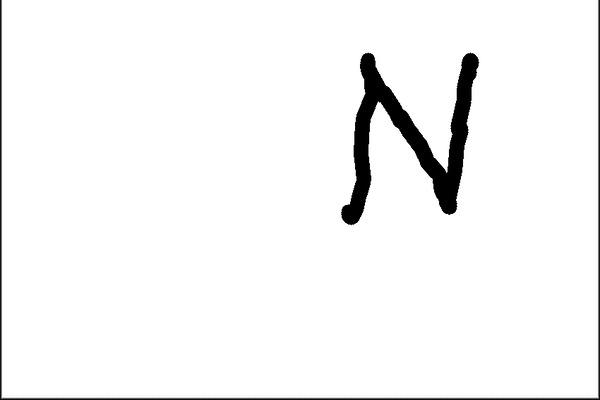N: (336, 43, 480, 232)
